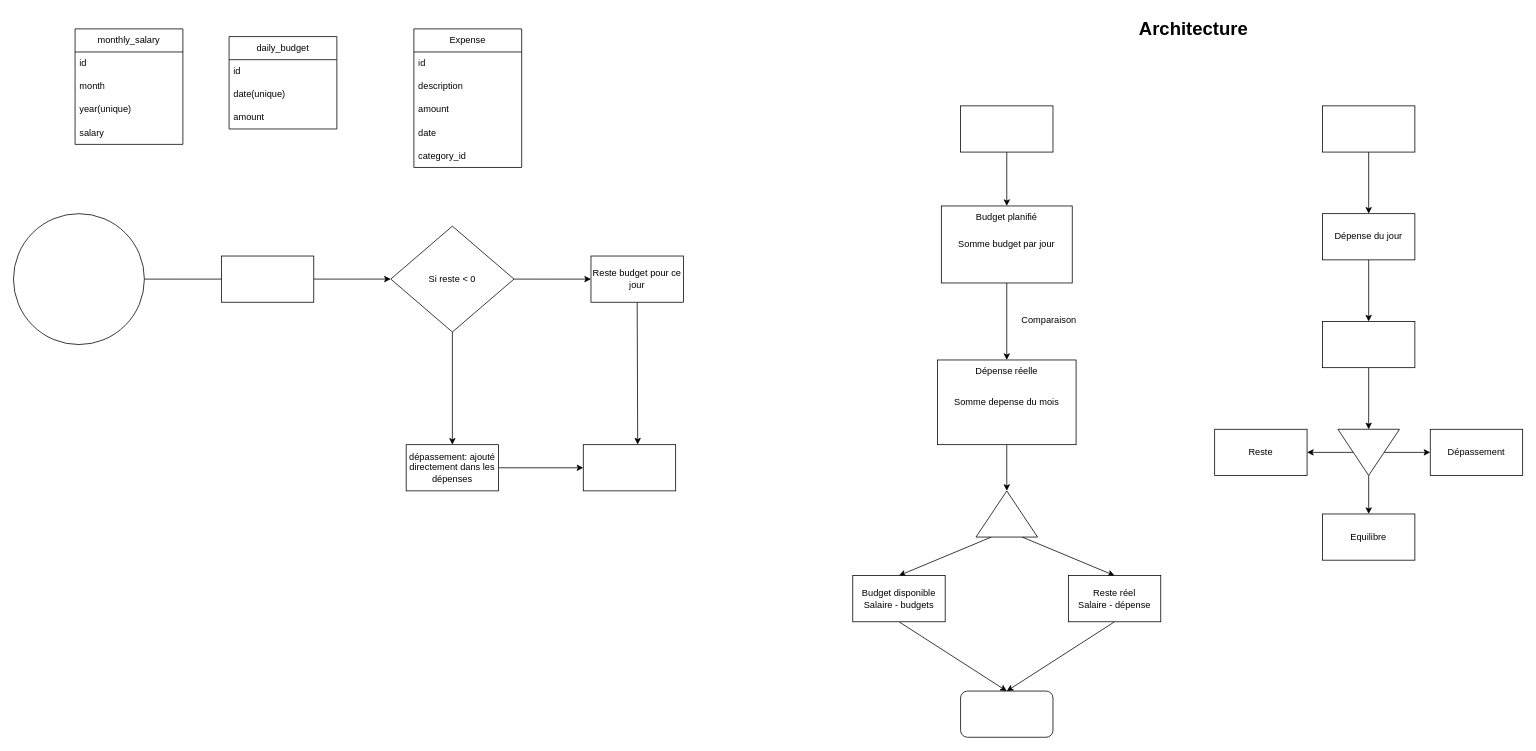
The diagram is 1536 pixels wide and 751 high, and some of its shapes have lost their labels. Here are the shapes that lost their labels. From the top down, the centre of each, then its label:
the point at 1006,128: Salaire mensuel
the point at 1368,128: Budget du jour
the point at 78,279: Enregistrement dépense
the point at 267,278: reste = budget - depense
the point at 1368,344: Budget - dépense
the point at 629,467: Stat global
the point at 1006,713: Situation du mois
